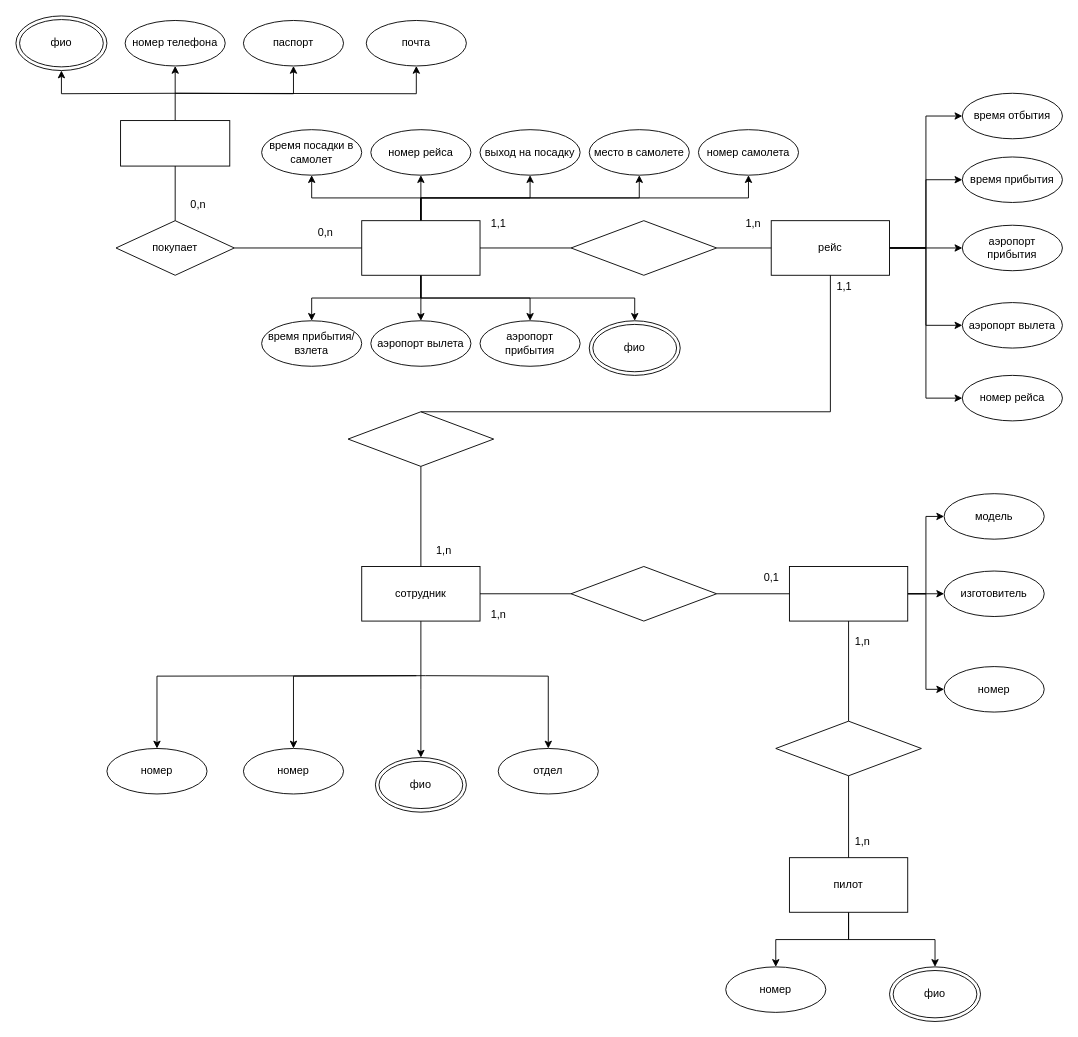
Some shapes in this 1078 by 1037 pixel diagram are drawn without their labels. Each missing label, with the box of its shape:
билет: (361, 220, 480, 275)
выбирает: (570, 566, 717, 621)
выполняет: (570, 220, 717, 275)
клиент: (120, 120, 230, 166)
регистрирует: (347, 411, 494, 466)
самолет: (789, 566, 908, 621)
управляет: (775, 720, 921, 776)
